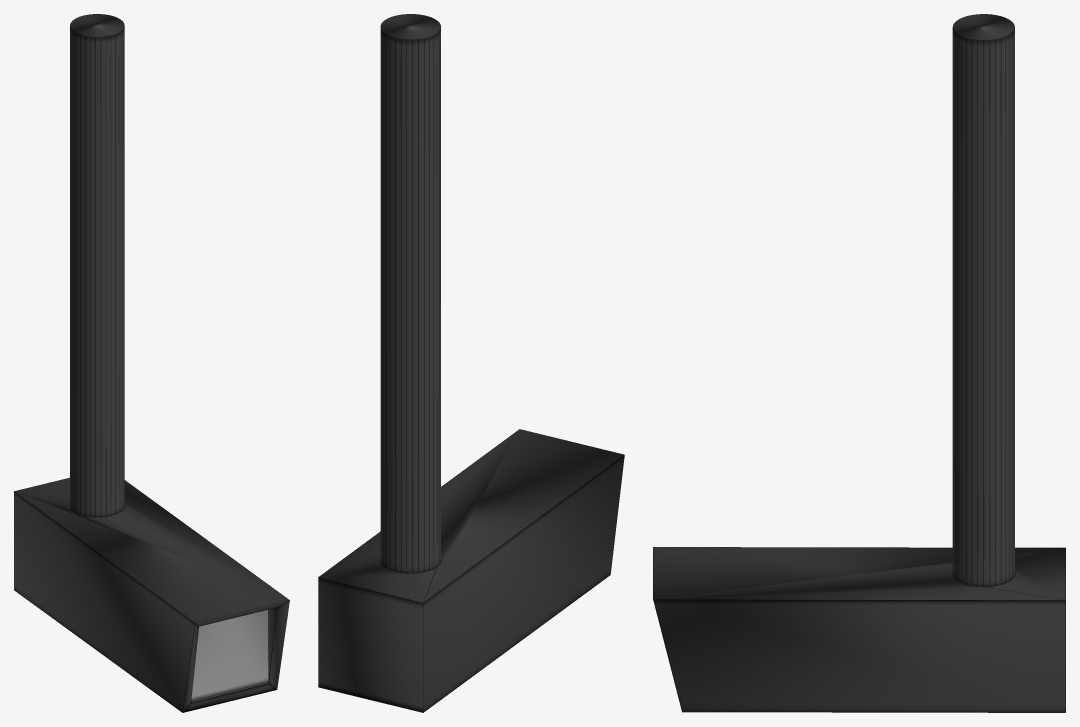
Rendered from Camera.fbx.
3 views of the same model, side by side, from view 1: azimuth 30°, elevation 25°; view 2: azimuth 150°, elevation 25°; view 3: azimuth 270°, elevation 25° (orthographic). The views are drawn at different scales.
Visible parts, largest first — view 1: Cylinder; view 2: Cylinder; view 3: Cylinder.
Part boxes in pixels (x1=…): Cylinder: x1=14, y1=14, x2=289, y2=712; Cylinder: x1=318, y1=14, x2=624, y2=712; Cylinder: x1=653, y1=14, x2=1065, y2=712.
Size of the model in its own units: 10 by 33.2 by 58.55.
